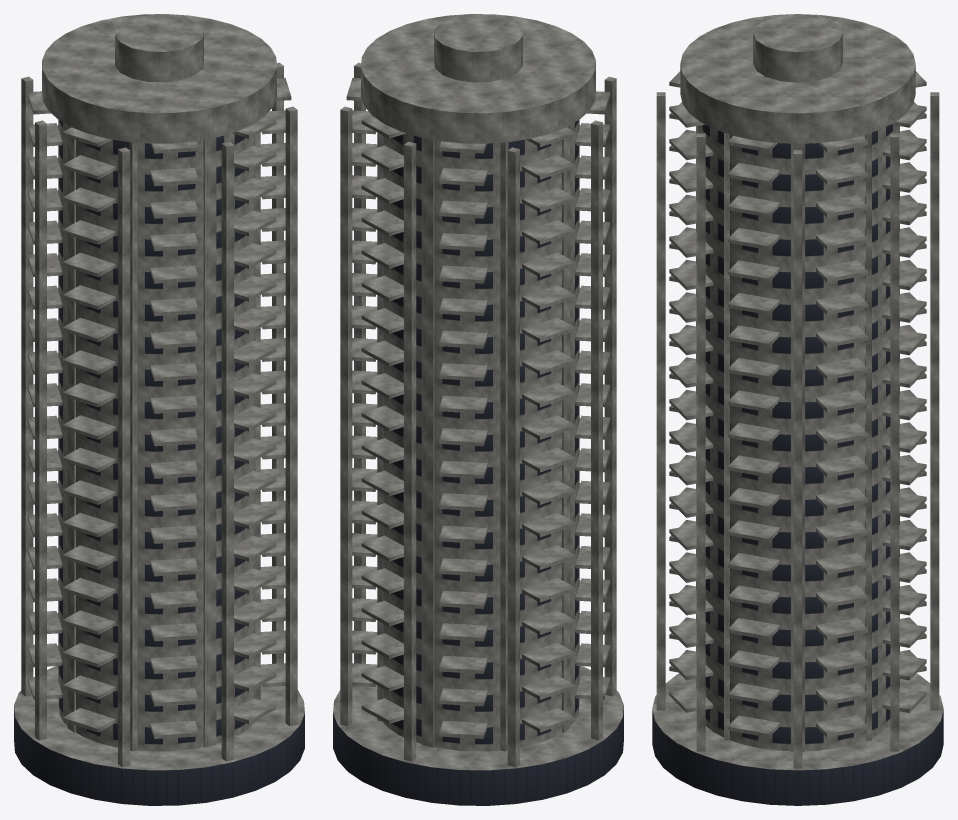
The model's file is romanita.obj.
The picture shows the model from 3 angles, left to right: view 1: azimuth 30°, elevation 25°; view 2: azimuth 150°, elevation 25°; view 3: azimuth 270°, elevation 25°; orthographic projection.
Parts seen in each view (by area): view 1: Petals_Concrete, Balconies_Concrete, Core_FacadeGrid, Crown_Concrete, Base_Glass, Base_Concrete, Roof_Concrete; view 2: Petals_Concrete, Balconies_Concrete, Core_FacadeGrid, Crown_Concrete, Base_Glass, Base_Concrete, Roof_Concrete; view 3: Core_FacadeGrid, Balconies_Concrete, Petals_Concrete, Crown_Concrete, Base_Glass, Base_Concrete, Roof_Concrete.
Boxes of the visible parts, box(x1,y1,x2,y2) form: Petals_Concrete: box(21, 62, 297, 767); Balconies_Concrete: box(27, 78, 291, 738); Core_FacadeGrid: box(58, 120, 255, 751); Crown_Concrete: box(42, 14, 276, 143); Base_Glass: box(14, 706, 304, 805); Base_Concrete: box(14, 666, 304, 770); Roof_Concrete: box(115, 14, 203, 82); Petals_Concrete: box(340, 62, 616, 767); Balconies_Concrete: box(346, 78, 610, 738); Core_FacadeGrid: box(382, 120, 579, 751); Crown_Concrete: box(361, 14, 595, 143); Base_Glass: box(333, 706, 623, 805); Base_Concrete: box(333, 666, 623, 770); Roof_Concrete: box(434, 14, 522, 82); Core_FacadeGrid: box(697, 124, 898, 751); Balconies_Concrete: box(669, 71, 926, 737); Petals_Concrete: box(656, 92, 939, 768); Crown_Concrete: box(680, 14, 915, 143); Base_Glass: box(652, 710, 943, 805); Base_Concrete: box(652, 673, 943, 770); Roof_Concrete: box(753, 14, 842, 82).
Bounding box in the file's own units: 26 × 70 × 26.
Materials: 3 (3 with a texture image).
